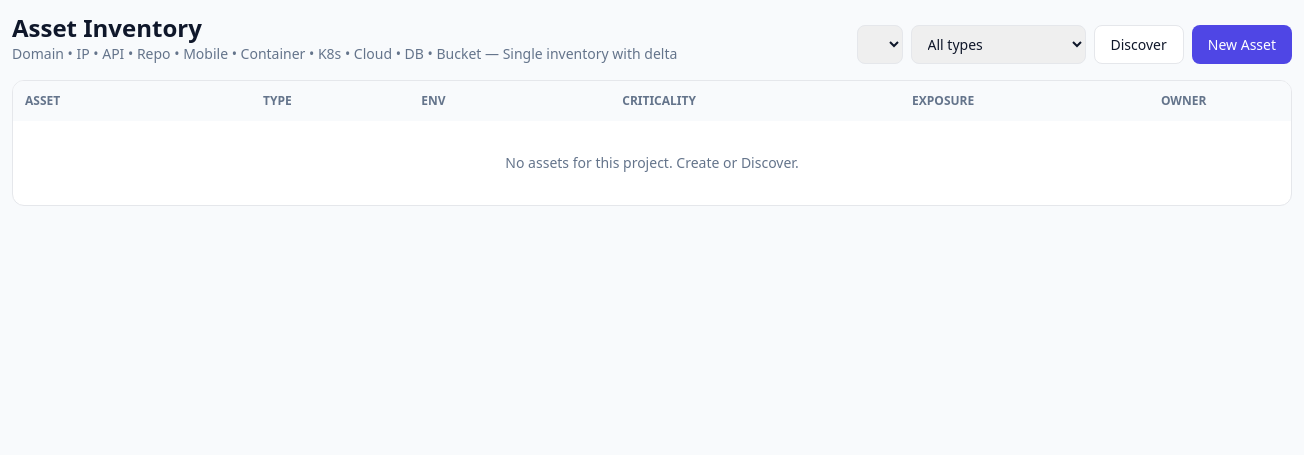
Scenario: Assets › toggles create form when clicking New Asset
The image size is (1304, 455).
Expected: the heading "Asset Inventory" is shown, top-left (12, 11), bottom-right (202, 44)
Click the button "New Asset".
click(1242, 44)  # box top-left (1192, 25), bottom-right (1292, 64)
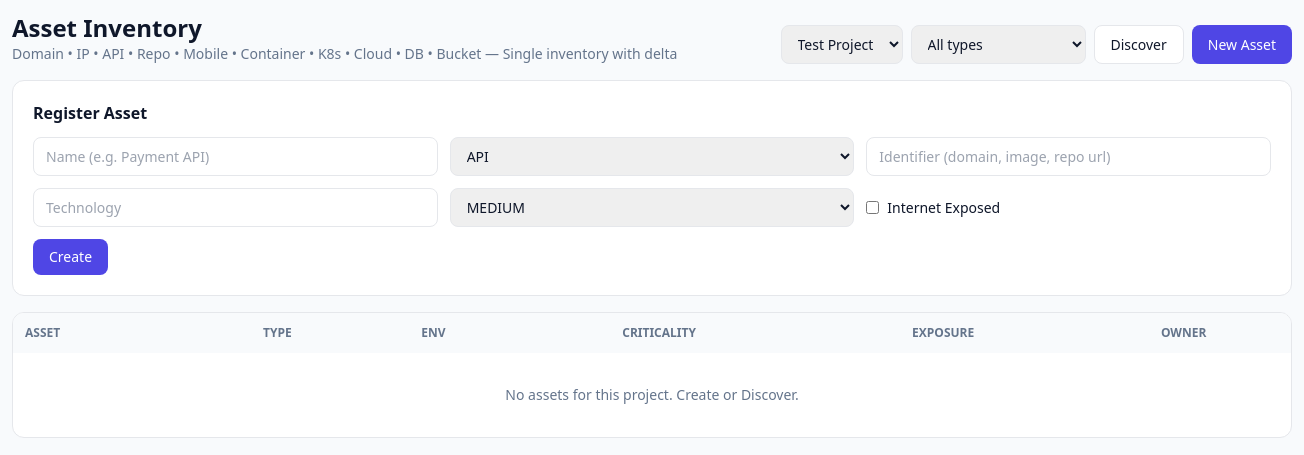
Result: the heading "Register Asset" is shown at top-left (33, 102), bottom-right (147, 124)
Click the button "New Asset".
click(1242, 44)  # box top-left (1192, 25), bottom-right (1292, 64)
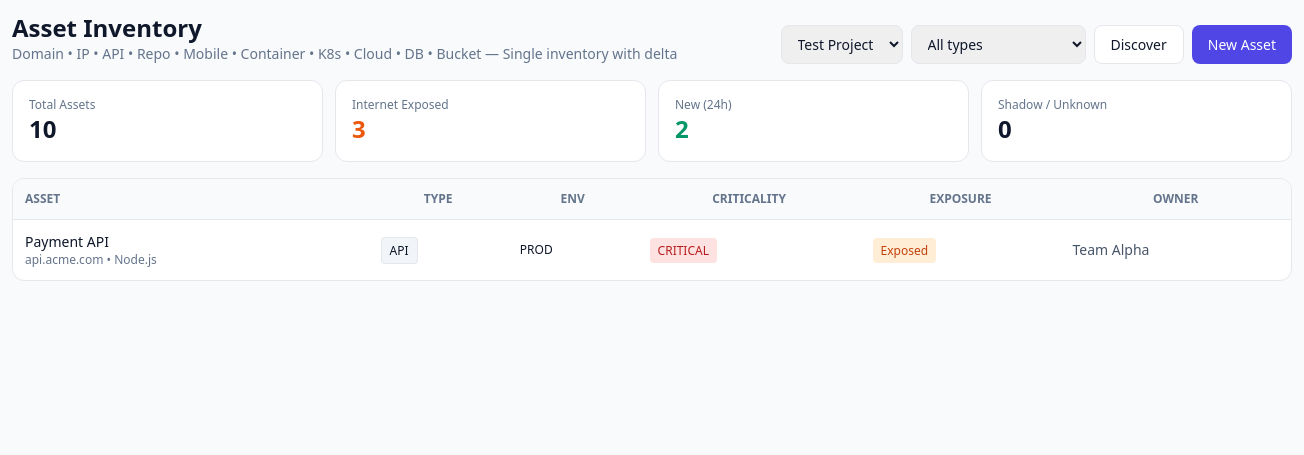
Result: the heading "Register Asset" is gone
